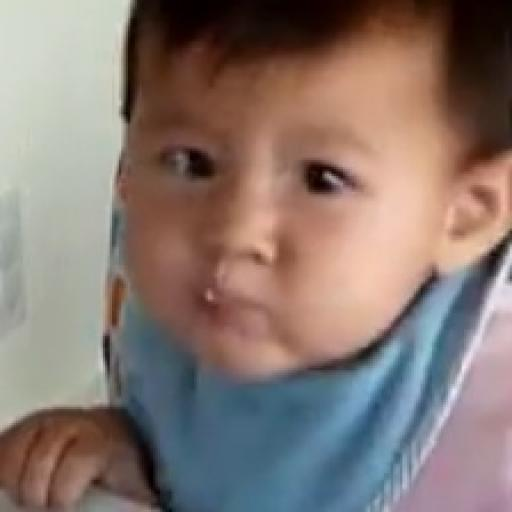Autism: (89, 11, 512, 414)
